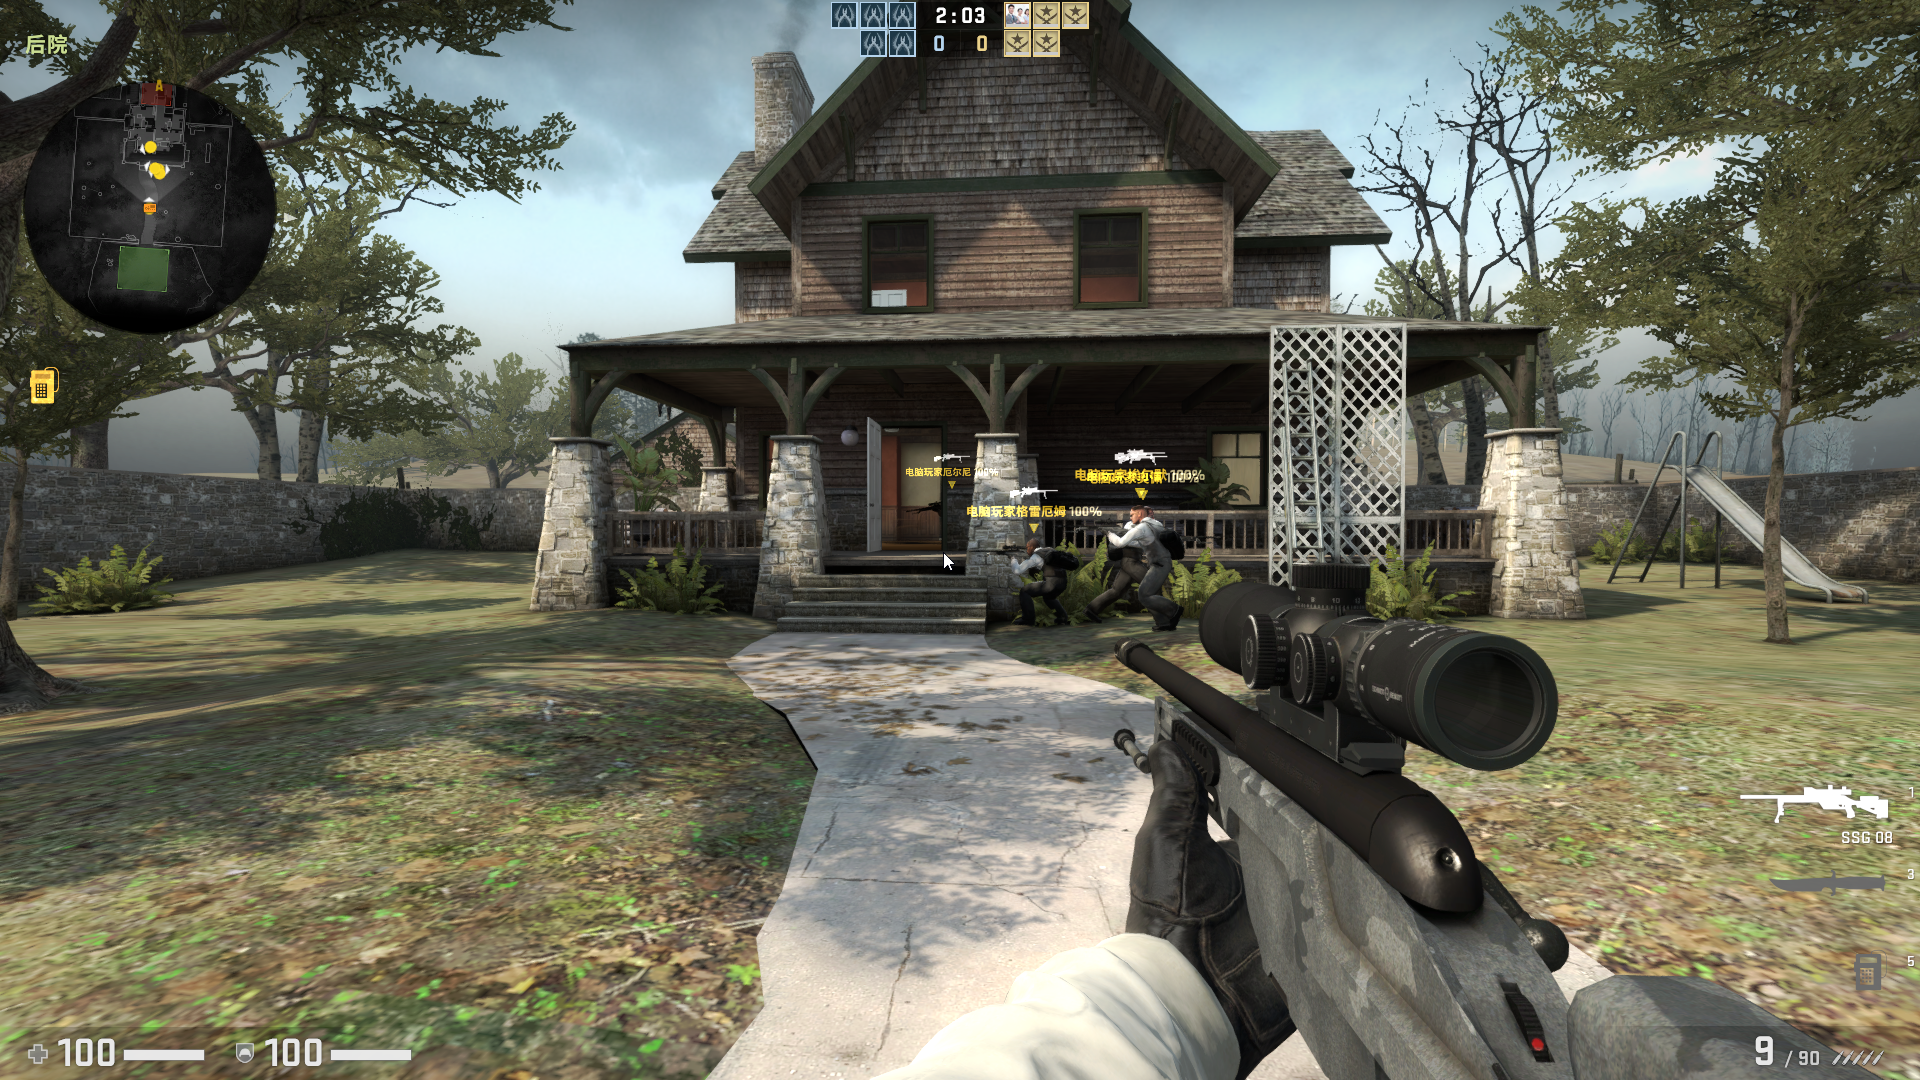person: (1105, 506, 1182, 632), (999, 537, 1077, 628)
